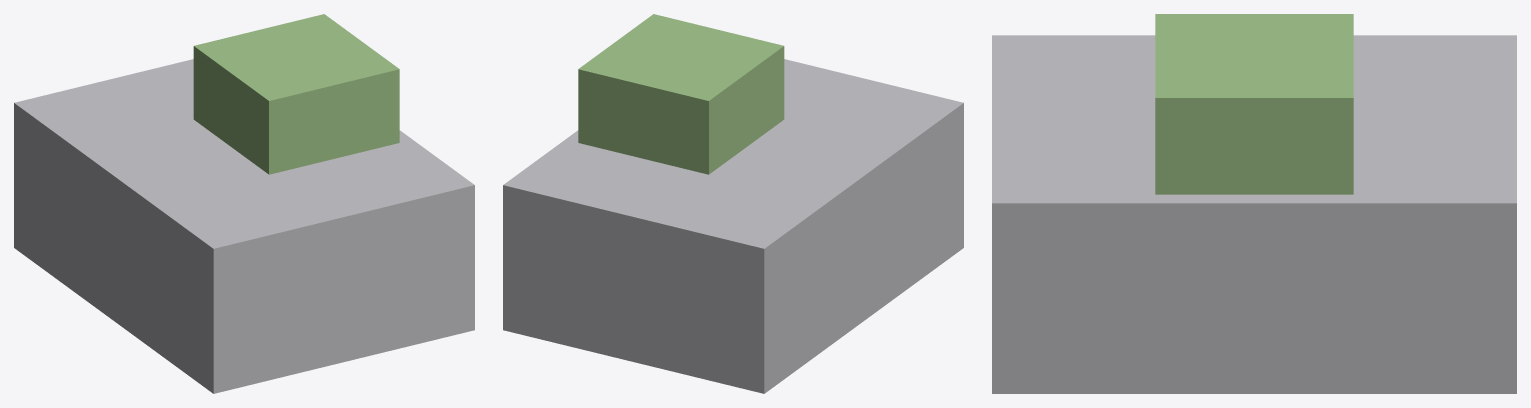
The model's file is Prop_Dress_AMF_Rock_V10.glb.
3 views of the same model, side by side, from view 1: azimuth 30°, elevation 25°; view 2: azimuth 150°, elevation 25°; view 3: azimuth 270°, elevation 25° (orthographic). The views are drawn at different scales.
Visible parts, largest first — view 1: Prop_Dress_AMF_Rock_V10; view 2: Prop_Dress_AMF_Rock_V10; view 3: Prop_Dress_AMF_Rock_V10.
Boxes of the visible parts, <box> form: Prop_Dress_AMF_Rock_V10: <box>14,14,474,393</box>; Prop_Dress_AMF_Rock_V10: <box>503,14,963,393</box>; Prop_Dress_AMF_Rock_V10: <box>992,14,1516,393</box>.
Size of the model in its own units: 0.8453 by 0.6762 by 1.12.
